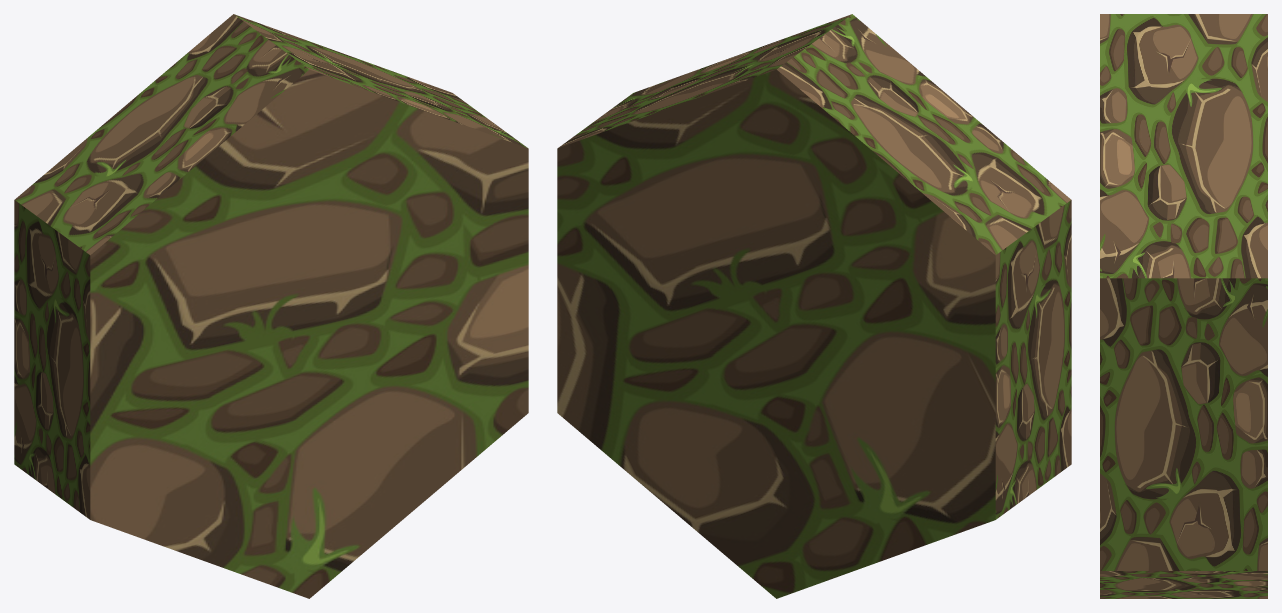
Rendered from hex.obj.
The picture shows the model from 3 angles, left to right: view 1: azimuth 30°, elevation 25°; view 2: azimuth 150°, elevation 25°; view 3: azimuth 270°, elevation 25°; orthographic projection. The views are drawn at different scales.
Parts seen in each view (by area): view 1: Hex_Cylinder.001; view 2: Hex_Cylinder.001; view 3: Hex_Cylinder.001.
Boxes of the visible parts, x1=… form: Hex_Cylinder.001: x1=14, y1=14, x2=528, y2=598; Hex_Cylinder.001: x1=557, y1=14, x2=1071, y2=598; Hex_Cylinder.001: x1=1100, y1=14, x2=1267, y2=598.
Size of the model in its own units: 10 by 11.55 by 3.
